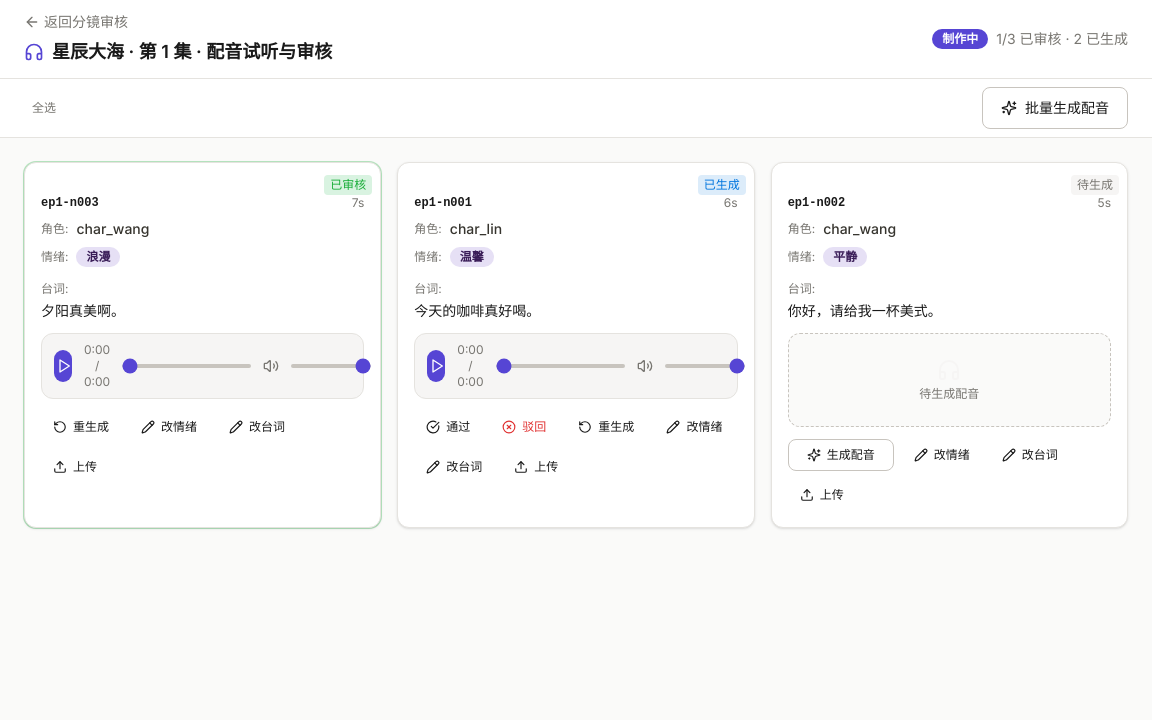
Test: TtsReviewPage › Emotion edit › should open emotion edit dialog
What coordinates should you click on to do the following:
click the button "改情绪" below "今天的咖啡真好喝。"
I would click on:
 (694, 427)
Its box is x1=654 y1=411 x2=734 y2=443.
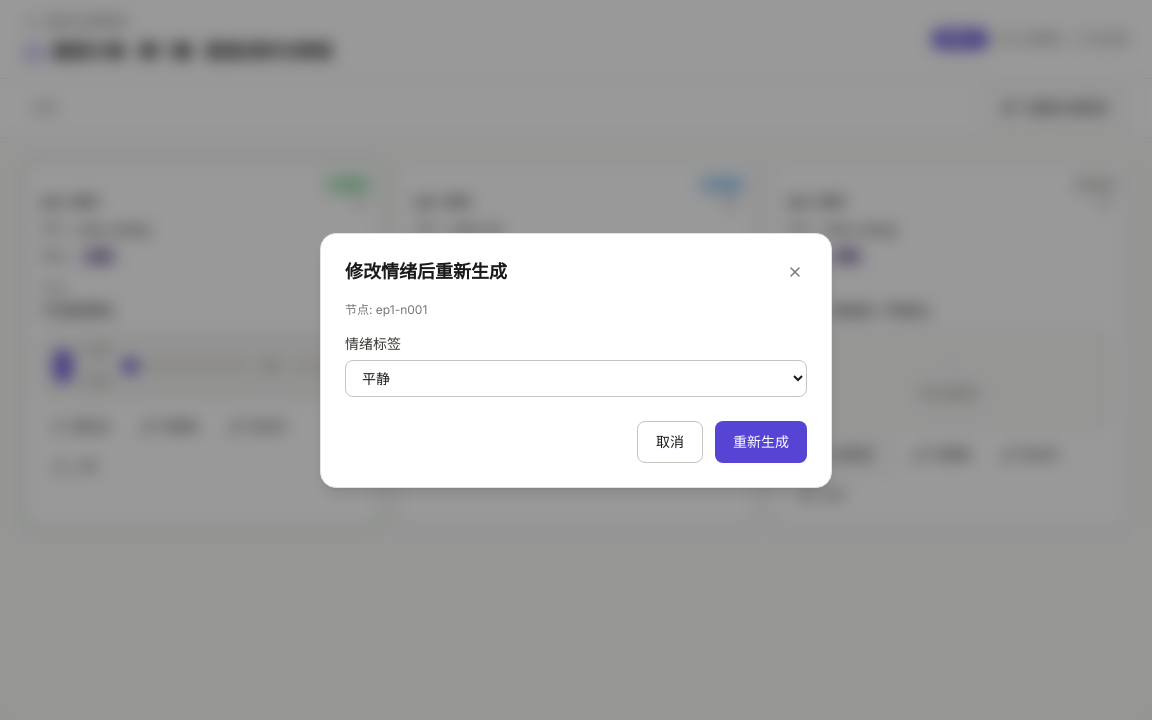
Expected: the heading "修改情绪后重新生成" is shown, x1=345 y1=258 x2=507 y2=286
